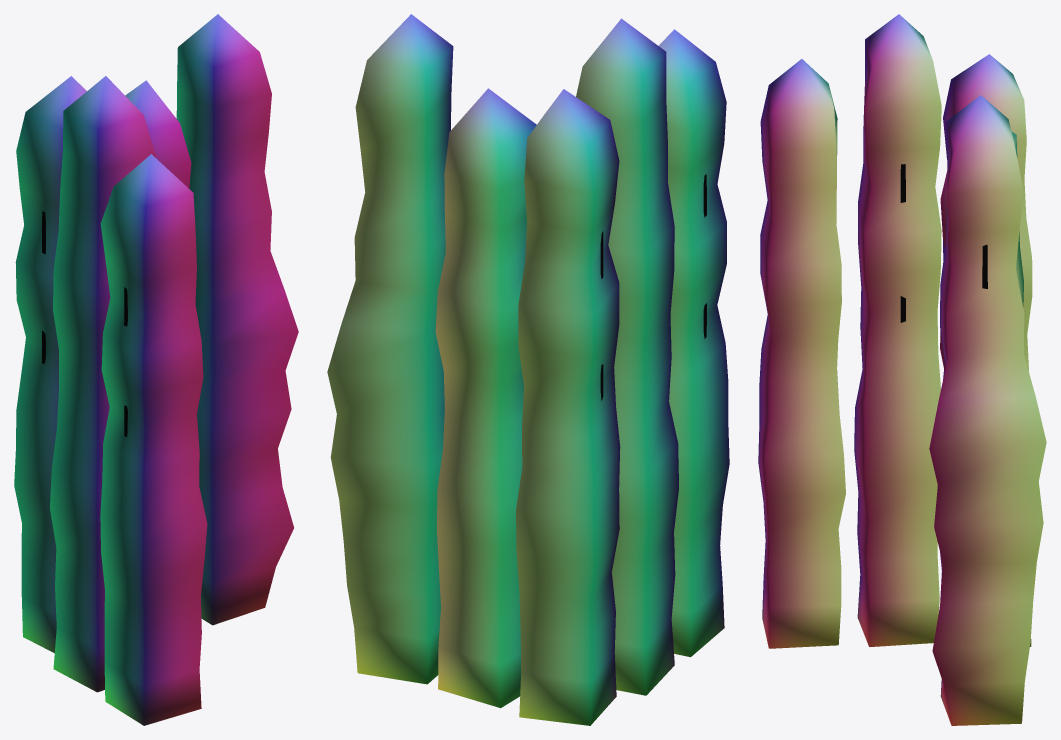
File: SM_Palisade_Plains_Corner.fbx
The picture shows the model from 3 angles, left to right: view 1: azimuth 30°, elevation 25°; view 2: azimuth 150°, elevation 25°; view 3: azimuth 270°, elevation 25°; orthographic projection. The views are drawn at different scales.
Visible parts, largest first — view 1: SM_Palisade_Plains_Corner; view 2: SM_Palisade_Plains_Corner; view 3: SM_Palisade_Plains_Corner.
Part boxes in pixels (x1,y1,x2,y2): SM_Palisade_Plains_Corner: (14,14,298,725); SM_Palisade_Plains_Corner: (327,14,729,725); SM_Palisade_Plains_Corner: (758,14,1046,725).
Size of the model in its own units: 0.6555 by 1.51 by 0.6368.
